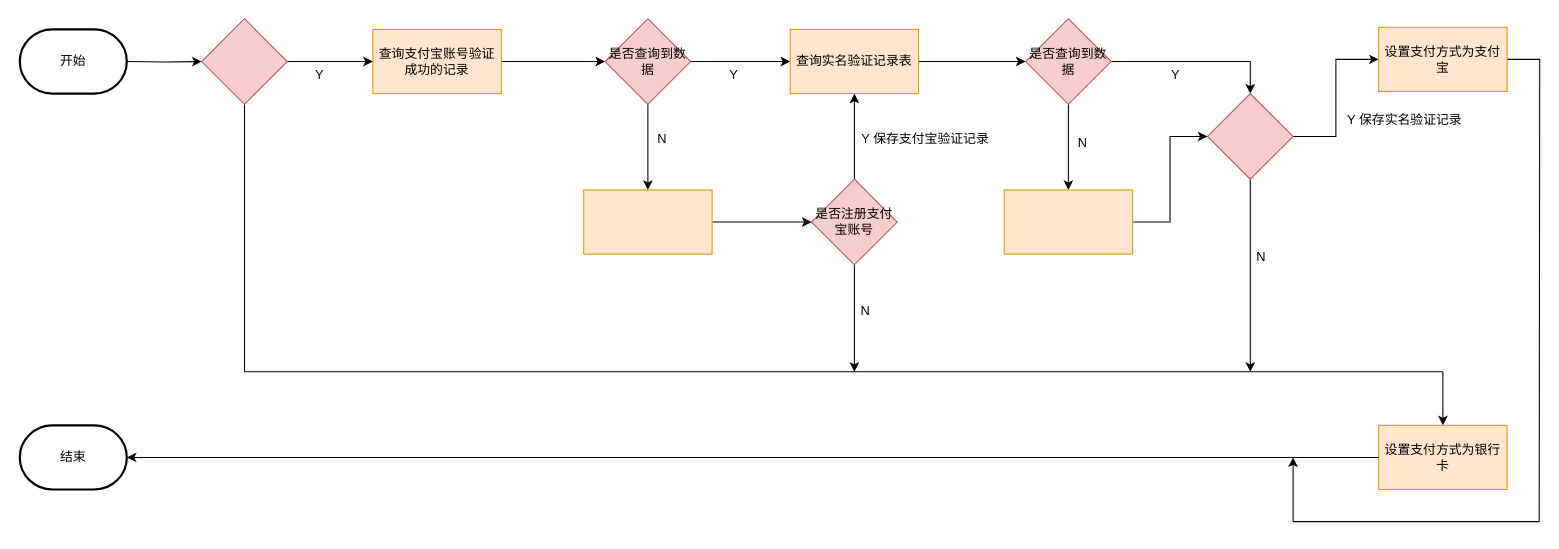
Image size: 1559x549. Some labels were removed from this diagram. Each missing label, with the box of its shape:
是否认证成功: (1206, 93, 1293, 179)
请求实名认证接口: (1003, 189, 1133, 254)
请求支付宝账号验证接口: (583, 189, 712, 254)
身份证校验: (201, 18, 287, 104)
